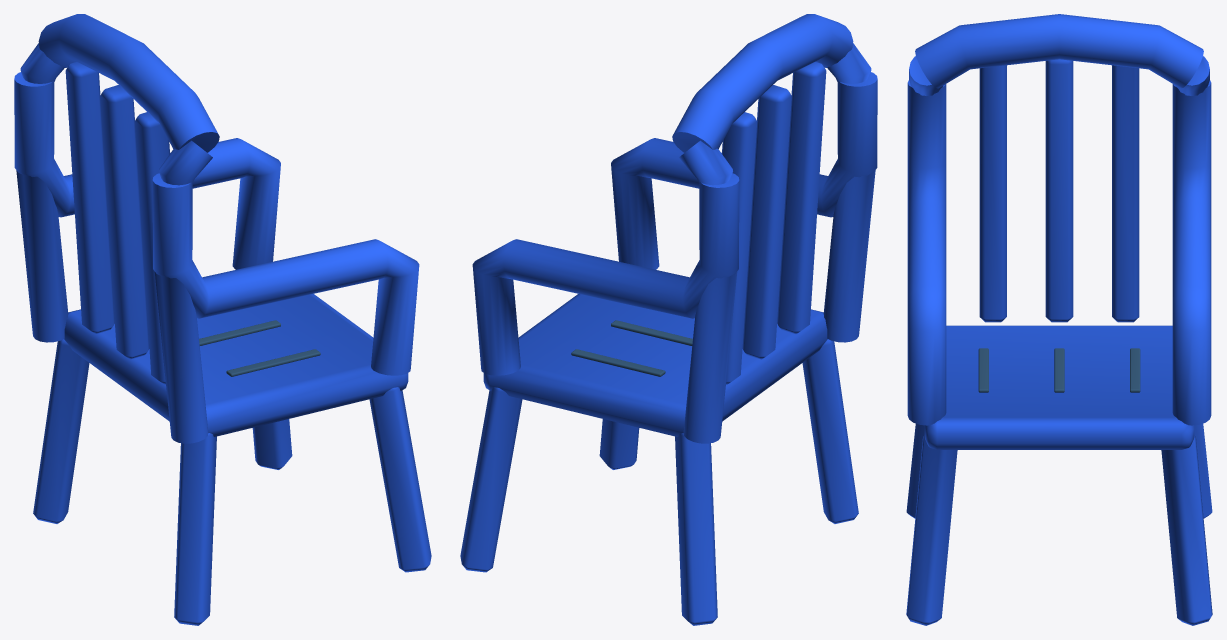
Rendered from prop.lawn-chair-b.glb.
The picture shows the model from 3 angles, left to right: view 1: azimuth 30°, elevation 25°; view 2: azimuth 150°, elevation 25°; view 3: azimuth 270°, elevation 25°; orthographic projection. The views are drawn at different scales.
Bounding box in the file's own units: 0.6418 × 1.18 × 0.648.
